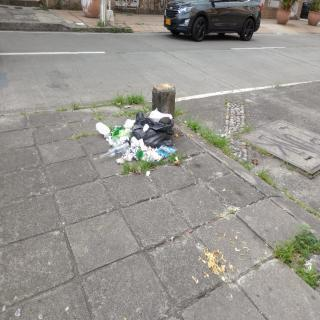Garbage: (132, 106, 175, 154)
